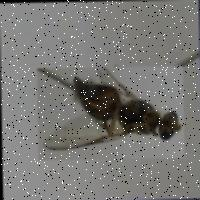Oriental-fruit-fly: (35, 65, 183, 160)
